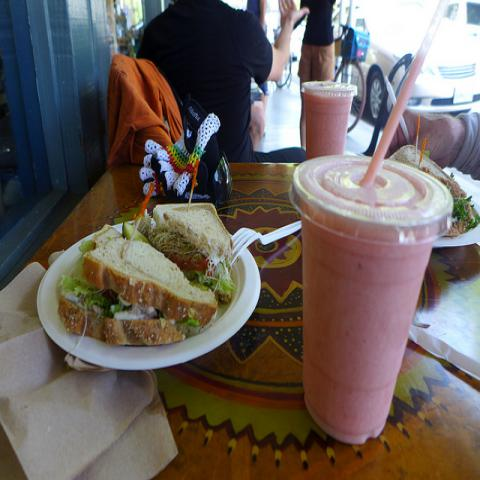car: (360, 0, 479, 122)
